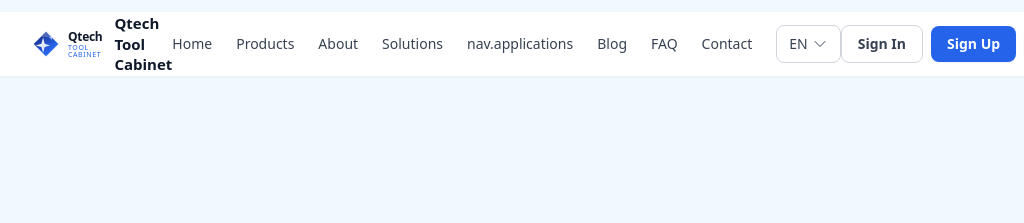
it: Navbar Component › should switch language when language button clicked
// Open language menu
Click the button "EN".
click(808, 44)  # box [776,25,841,63]
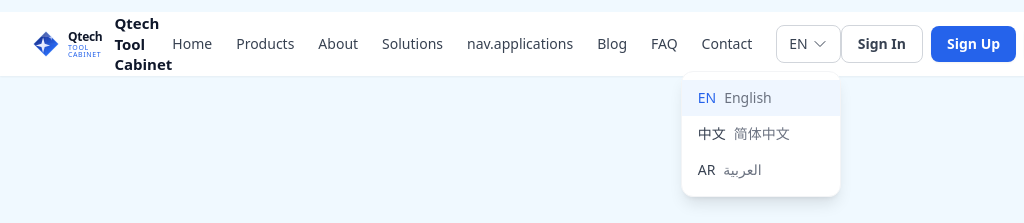
Check: the text "English" is shown, box [724,88,772,107]
Check: the text "简体中文" is shown, box [734,124,790,143]
Check: the text "العربية" is shown, box [723,160,762,179]
